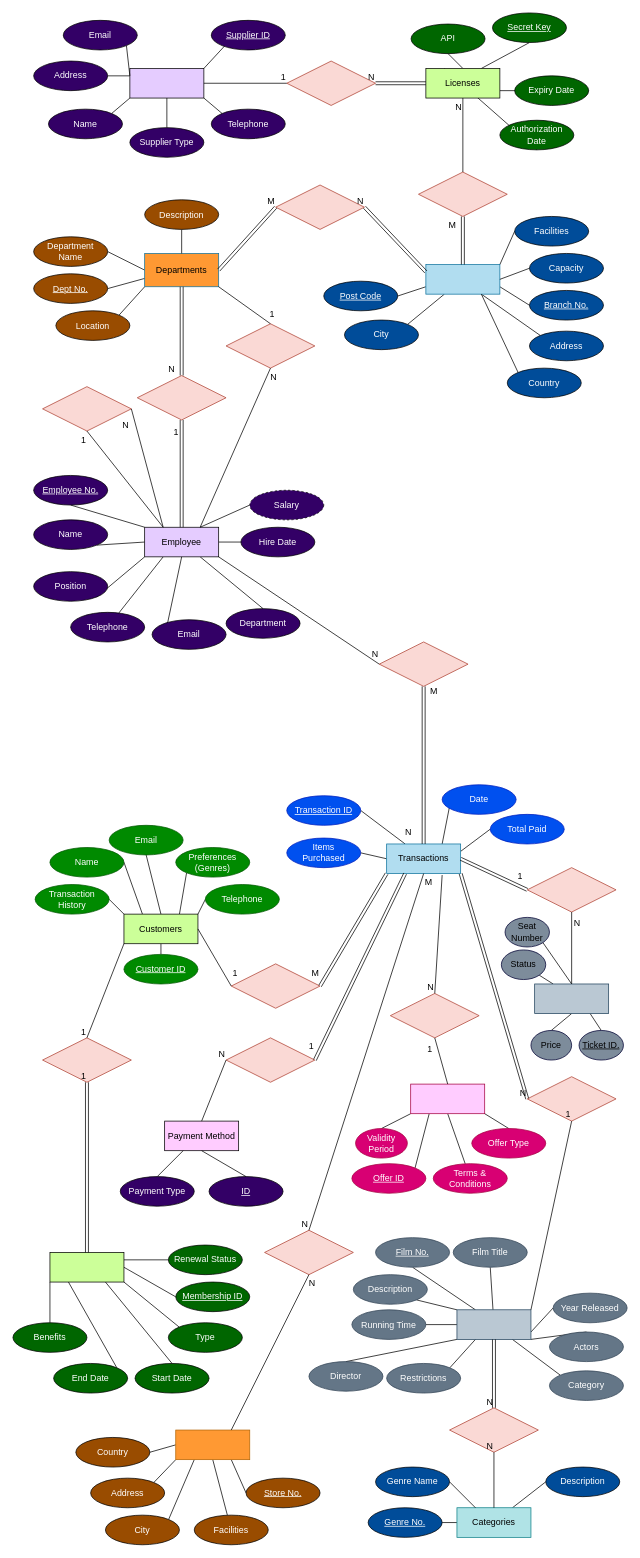
Image size: 640x1558. Some labels were removed from this diagram. The centre of each missing label's shape, as x and y in pixels:
Arrange: pixel 423 663
Charges: pixel 270 1059
Controls: pixel 319 206
Features: pixel 571 1098
Films: pixel 493 1324
Give: pixel 434 1015
Join: pixel 86 1059
Make: pixel 275 985
Manage: pixel 181 397
Membership: pixel 86 1267
Offers: pixel 447 1098
Options: pixel 493 1429
Permit: pixel 462 193
Provides: pixel 331 82
Purchase: pixel 308 1252
Reservation: pixel 571 889
Supervision: pixel 86 408
Suppliers: pixel 166 83
Theme - Stores: pixel 212 1444
Ticketing: pixel 571 998
VS Cinema Branches: pixel 462 279
Working: pixel 270 345
